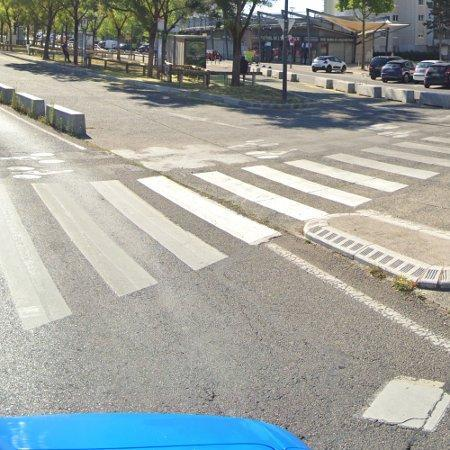crosswalks: (0, 139, 449, 332)
